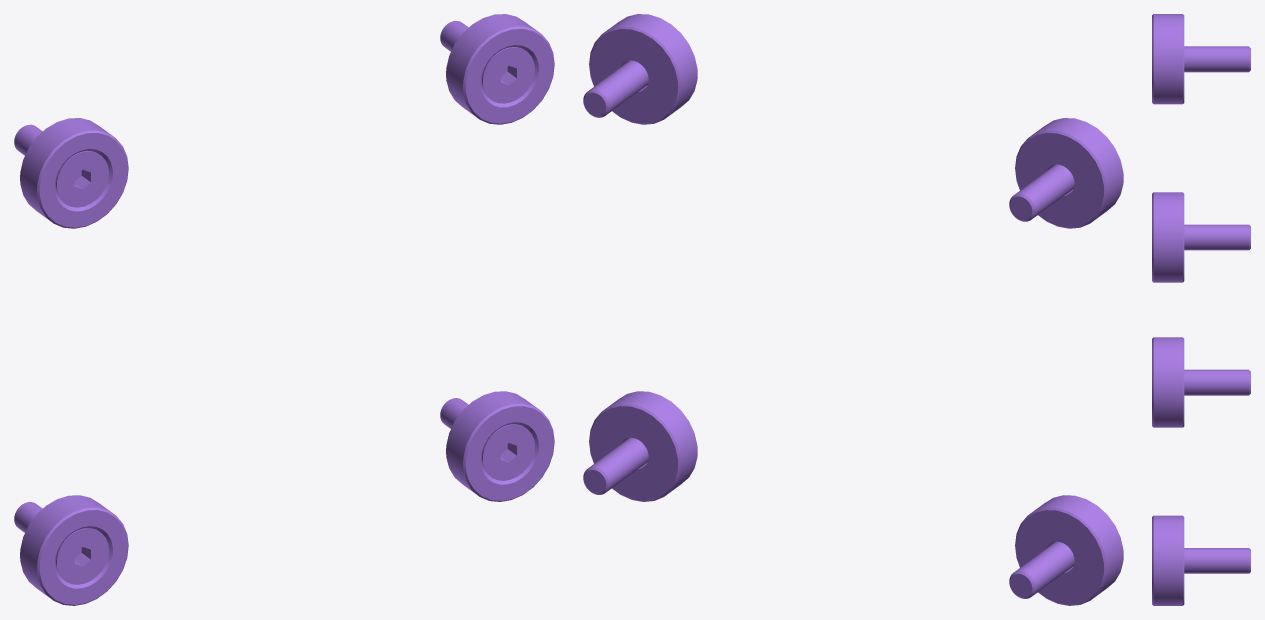
Rendered from stop.glb.
The picture shows the model from 3 angles, left to right: view 1: azimuth 30°, elevation 25°; view 2: azimuth 150°, elevation 25°; view 3: azimuth 270°, elevation 25°; orthographic projection. The views are drawn at different scales.
Visible parts, largest first — view 1: cardcase_z55_083 (×4), cardcase_fhcs_z55_084 (×4); view 2: cardcase_z55_083 (×4), cardcase_fhcs_z55_084 (×4); view 3: cardcase_z55_083 (×4), cardcase_fhcs_z55_084 (×4).
Part boxes in pixels (bbox=[...]): cardcase_z55_083 (×4): bbox=[20, 14, 554, 605]; cardcase_fhcs_z55_084 (×4): bbox=[14, 21, 534, 584]; cardcase_z55_083 (×4): bbox=[589, 14, 1123, 605]; cardcase_fhcs_z55_084 (×4): bbox=[583, 60, 1074, 598]; cardcase_z55_083 (×4): bbox=[1152, 14, 1184, 605]; cardcase_fhcs_z55_084 (×4): bbox=[1184, 46, 1250, 573].
Size of the model in its own units: 0.158 by 0.1379 by 0.0305.
